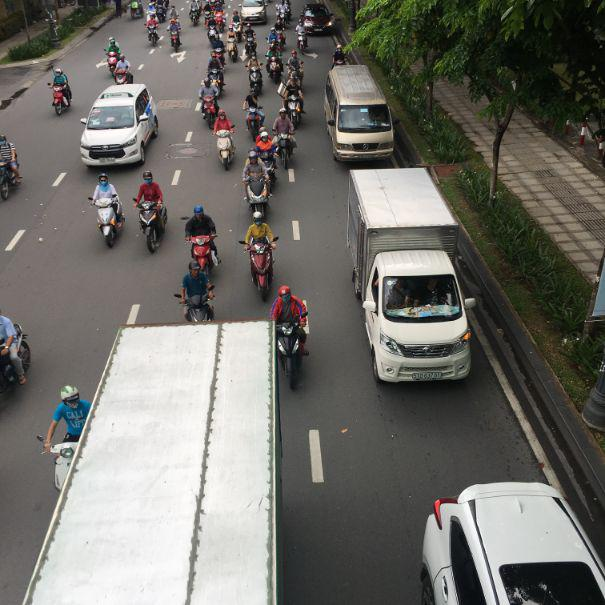car: (324, 65, 395, 165), (81, 85, 159, 169), (301, 4, 336, 36), (238, 1, 269, 26)
motorbike: (244, 236, 278, 298), (276, 322, 307, 389), (137, 195, 168, 253), (94, 196, 127, 248), (188, 236, 221, 282), (214, 119, 236, 173), (49, 78, 72, 117), (113, 57, 132, 83)
truck: (346, 166, 475, 383)
